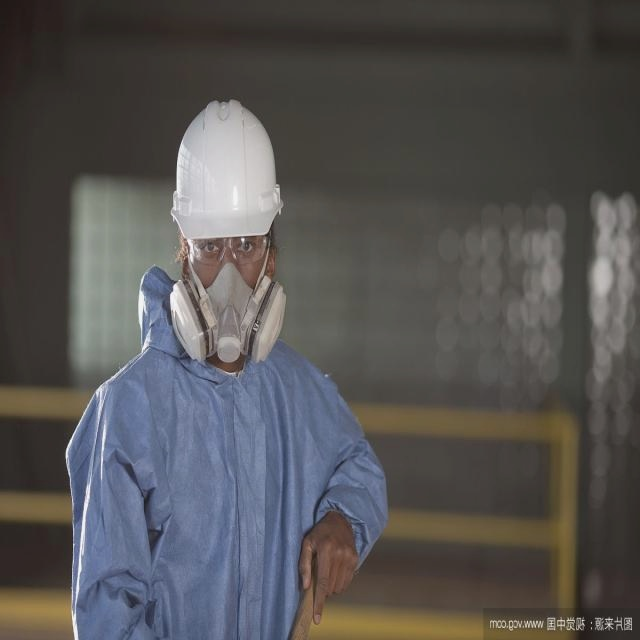Con_Casco: (174, 96, 284, 285)
